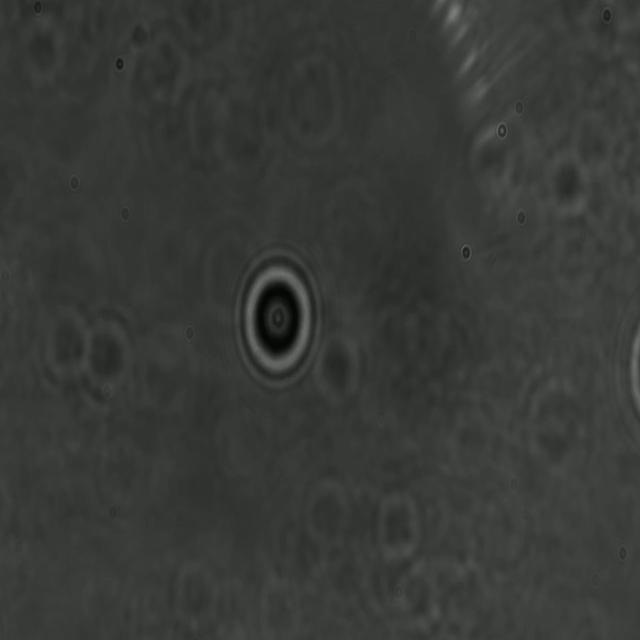LCELL: (232, 244, 324, 393)
